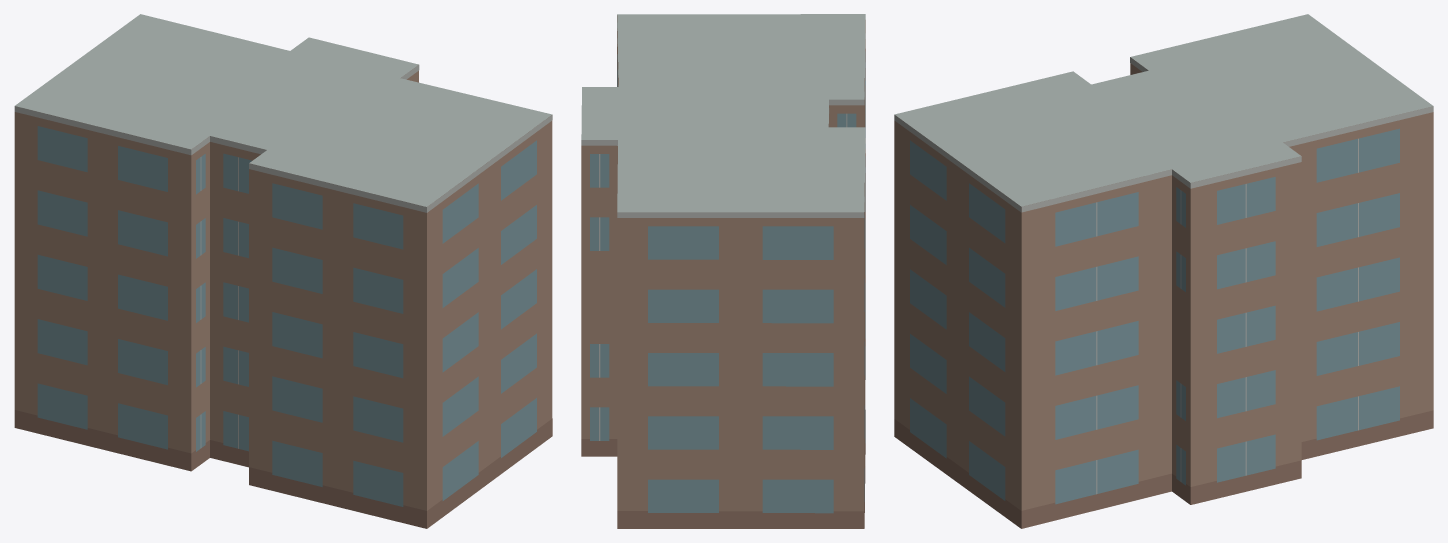
Rendered from survey-upis-32904255.glb.
The picture shows the model from 3 angles, left to right: view 1: azimuth 30°, elevation 25°; view 2: azimuth 150°, elevation 25°; view 3: azimuth 270°, elevation 25°; orthographic projection.
Visible parts, largest first — view 1: survey-upis-32904255.tmp; view 2: survey-upis-32904255.tmp; view 3: survey-upis-32904255.tmp.
Boxes of the visible parts, box(x1,y1,x2,y2) form: survey-upis-32904255.tmp: box(14, 14, 552, 528); survey-upis-32904255.tmp: box(581, 14, 865, 528); survey-upis-32904255.tmp: box(894, 14, 1433, 528).
Bounding box in the file's own units: 17.2 × 13.4 × 20.34.
